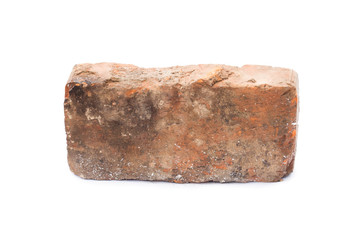brick: (66, 82, 292, 176)
